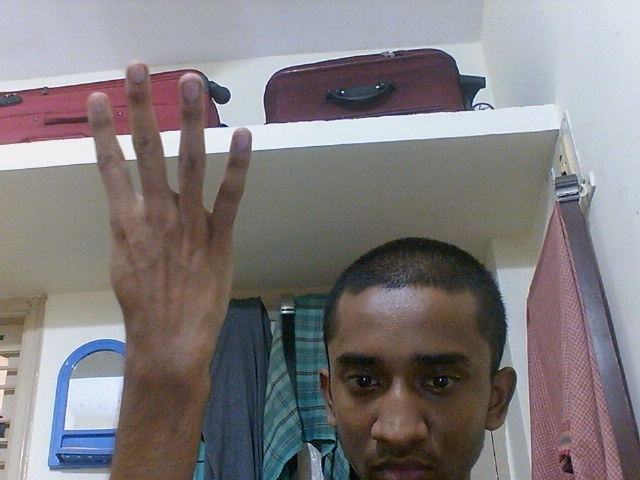hand: (79, 59, 254, 394)
